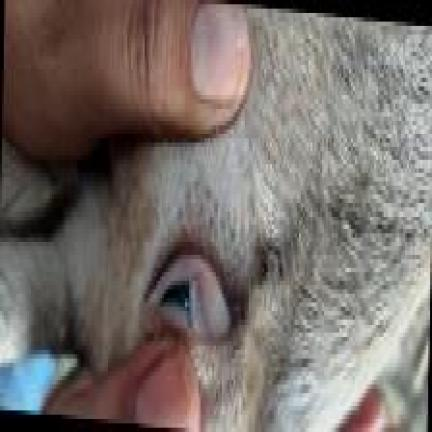goat-eye-anemia-22222222: (143, 246, 251, 341)
